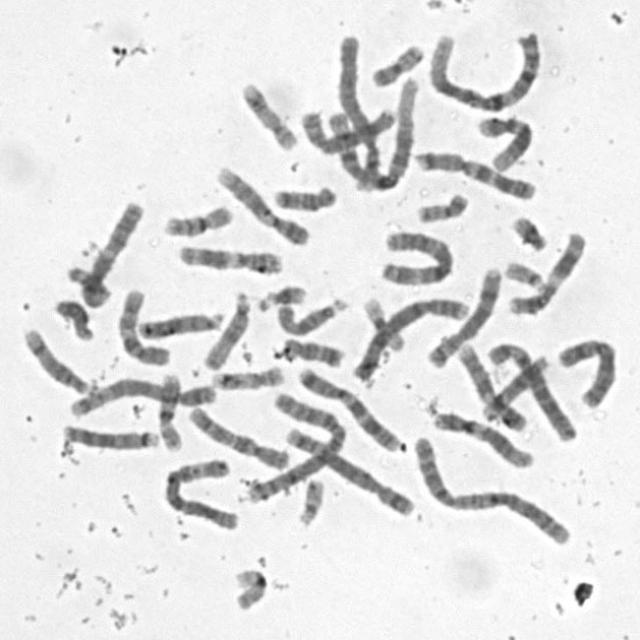A1: (324, 68, 422, 192), (422, 24, 546, 114)
A2: (406, 430, 574, 548), (241, 389, 349, 504)
A3: (76, 196, 148, 308), (375, 224, 456, 286)
B4: (349, 291, 473, 386), (334, 27, 391, 192)
B5: (279, 423, 416, 517), (64, 373, 221, 419)
C10: (184, 402, 293, 472), (113, 282, 173, 368)
C11: (503, 225, 590, 317), (173, 239, 286, 275)
C12: (428, 406, 538, 471), (472, 110, 535, 172)
C6: (482, 336, 580, 444), (160, 453, 241, 532)
C7: (292, 361, 403, 455), (411, 145, 538, 201)
C8: (421, 261, 504, 369), (295, 100, 400, 156)
C9: (211, 160, 312, 248), (453, 338, 530, 433)
D13: (57, 419, 162, 452), (133, 307, 226, 340)
D14: (18, 323, 95, 397), (475, 350, 551, 424)
D15: (198, 286, 252, 371), (273, 293, 348, 336)
E16: (159, 199, 236, 239), (154, 368, 186, 453)
E17: (236, 76, 300, 152), (207, 361, 286, 392)
E18: (276, 331, 347, 369), (268, 180, 338, 212)
F19: (358, 292, 408, 352), (229, 562, 270, 612)
F20: (368, 38, 428, 88), (412, 187, 471, 224)
G21: (252, 278, 310, 313), (506, 210, 550, 253)
G22: (293, 473, 327, 528), (502, 256, 548, 291)
X: (552, 332, 620, 410)
Y: (50, 294, 97, 342)
